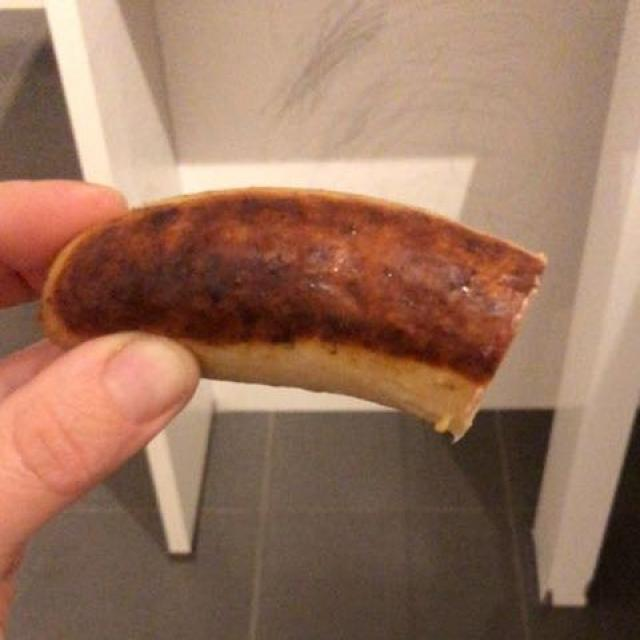sausage: (46, 193, 539, 426)
